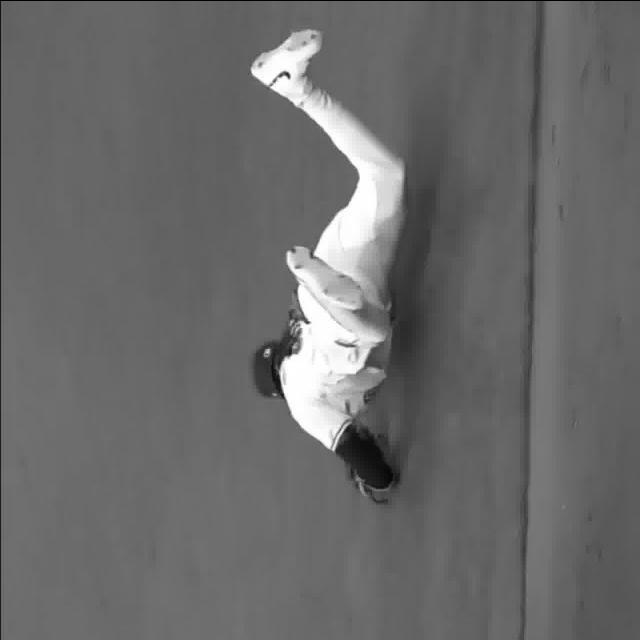baseball_glove: (347, 426, 393, 503)
shoe: (286, 243, 368, 310), (252, 24, 327, 93)
